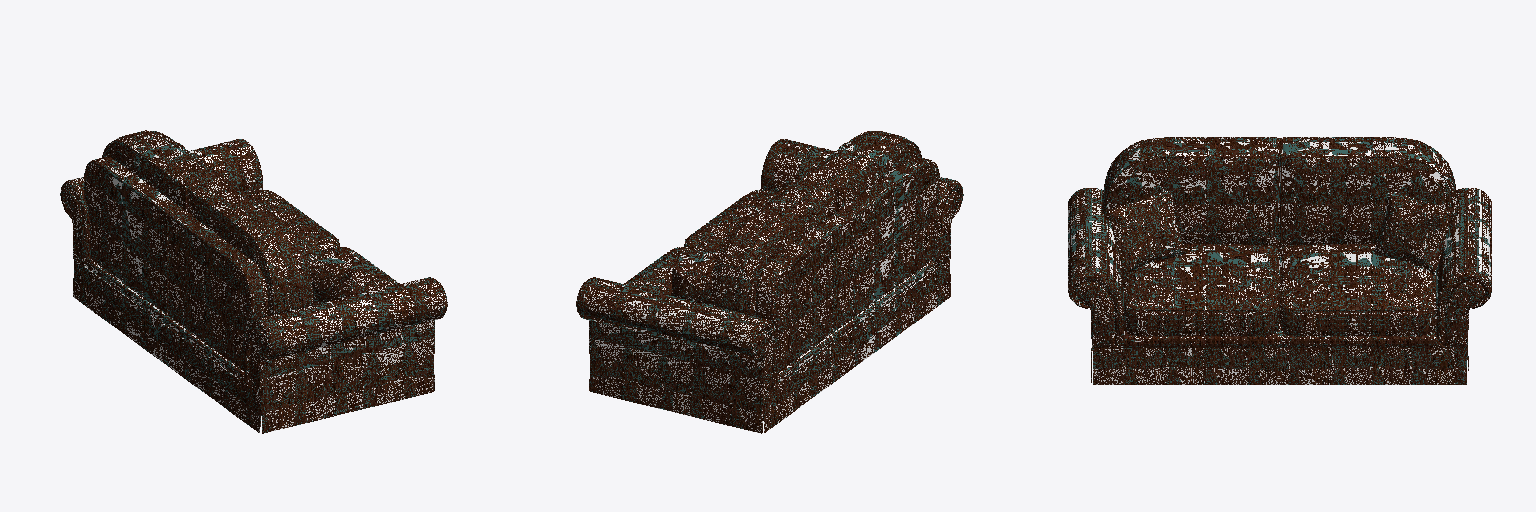
3 renders of one model, left to right at view 1: azimuth 30°, elevation 25°; view 2: azimuth 150°, elevation 25°; view 3: azimuth 270°, elevation 25°, orthographic.
Visible parts, largest first — view 1: mesh25.002_mesh25-geometry, mesh27.002_mesh27-geometry, mesh24.002_mesh24-geometry, mesh26.002_mesh26-geometry, mesh10.002_mesh10-geometry, mesh9.002_mesh9-geometry, mesh23.002_mesh23-geometry, mesh22.002_mesh22-geometry, mesh11.002_mesh11-geometry, mesh1.002_mesh1-geometry, mesh19.002_mesh19-geometry, mesh6.002_mesh6-geometry; view 2: mesh22.002_mesh22-geometry, mesh24.002_mesh24-geometry, mesh27.002_mesh27-geometry, mesh23.002_mesh23-geometry, mesh10.002_mesh10-geometry, mesh18.002_mesh18-geometry, mesh26.002_mesh26-geometry, mesh25.002_mesh25-geometry, mesh1.002_mesh1-geometry, mesh11.002_mesh11-geometry, mesh19.002_mesh19-geometry, mesh16.002_mesh16-geometry; view 3: mesh26.002_mesh26-geometry, mesh23.002_mesh23-geometry, mesh8.002_mesh8-geometry, mesh1.002_mesh1-geometry, mesh11.002_mesh11-geometry, mesh22.002_mesh22-geometry, mesh25.002_mesh25-geometry, mesh16.002_mesh16-geometry, mesh6.002_mesh6-geometry, mesh19.002_mesh19-geometry, mesh14.002_mesh14-geometry, mesh4.002_mesh4-geometry.
Boxes of the visible parts, x1=… form: mesh25.002_mesh25-geometry: x1=245, y1=277, x2=447, y2=395; mesh27.002_mesh27-geometry: x1=168, y1=210, x2=267, y2=371; mesh24.002_mesh24-geometry: x1=84, y1=157, x2=183, y2=315; mesh26.002_mesh26-geometry: x1=188, y1=179, x2=311, y2=315; mesh10.002_mesh10-geometry: x1=73, y1=260, x2=260, y2=432; mesh9.002_mesh9-geometry: x1=261, y1=354, x2=433, y2=433; mesh23.002_mesh23-geometry: x1=103, y1=130, x2=223, y2=209; mesh22.002_mesh22-geometry: x1=60, y1=139, x2=262, y2=265; mesh11.002_mesh11-geometry: x1=246, y1=190, x2=339, y2=252; mesh1.002_mesh1-geometry: x1=267, y1=247, x2=398, y2=316; mesh19.002_mesh19-geometry: x1=86, y1=261, x2=248, y2=385; mesh6.002_mesh6-geometry: x1=307, y1=256, x2=352, y2=304; mesh22.002_mesh22-geometry: x1=576, y1=277, x2=778, y2=395; mesh24.002_mesh24-geometry: x1=756, y1=210, x2=855, y2=371; mesh27.002_mesh27-geometry: x1=840, y1=157, x2=939, y2=315; mesh23.002_mesh23-geometry: x1=712, y1=179, x2=835, y2=315; mesh10.002_mesh10-geometry: x1=763, y1=260, x2=950, y2=432; mesh18.002_mesh18-geometry: x1=590, y1=354, x2=762, y2=433; mesh26.002_mesh26-geometry: x1=800, y1=131, x2=920, y2=209; mesh25.002_mesh25-geometry: x1=761, y1=139, x2=963, y2=265; mesh1.002_mesh1-geometry: x1=684, y1=189, x2=778, y2=252; mesh11.002_mesh11-geometry: x1=625, y1=247, x2=717, y2=305; mesh19.002_mesh19-geometry: x1=775, y1=261, x2=937, y2=385; mesh16.002_mesh16-geometry: x1=672, y1=256, x2=716, y2=304; mesh26.002_mesh26-geometry: x1=1102, y1=138, x2=1279, y2=247; mesh23.002_mesh23-geometry: x1=1280, y1=138, x2=1457, y2=247; mesh8.002_mesh8-geometry: x1=1093, y1=348, x2=1466, y2=384; mesh1.002_mesh1-geometry: x1=1124, y1=245, x2=1279, y2=335; mesh11.002_mesh11-geometry: x1=1280, y1=245, x2=1435, y2=335; mesh22.002_mesh22-geometry: x1=1436, y1=188, x2=1491, y2=346; mesh25.002_mesh25-geometry: x1=1068, y1=188, x2=1123, y2=346; mesh16.002_mesh16-geometry: x1=1374, y1=191, x2=1449, y2=272; mesh6.002_mesh6-geometry: x1=1109, y1=191, x2=1184, y2=272; mesh19.002_mesh19-geometry: x1=1117, y1=324, x2=1442, y2=346; mesh14.002_mesh14-geometry: x1=1280, y1=156, x2=1454, y2=246; mesh4.002_mesh4-geometry: x1=1105, y1=156, x2=1279, y2=246.
Bounding box in the file's own units: 0.4119 × 0.3771 × 0.8295.
Materials: 2 (2 with a texture image).